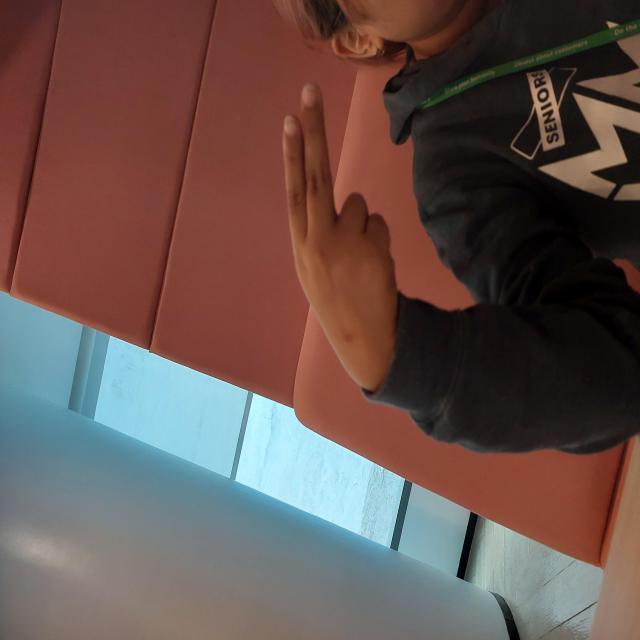H: (233, 277, 561, 405)
